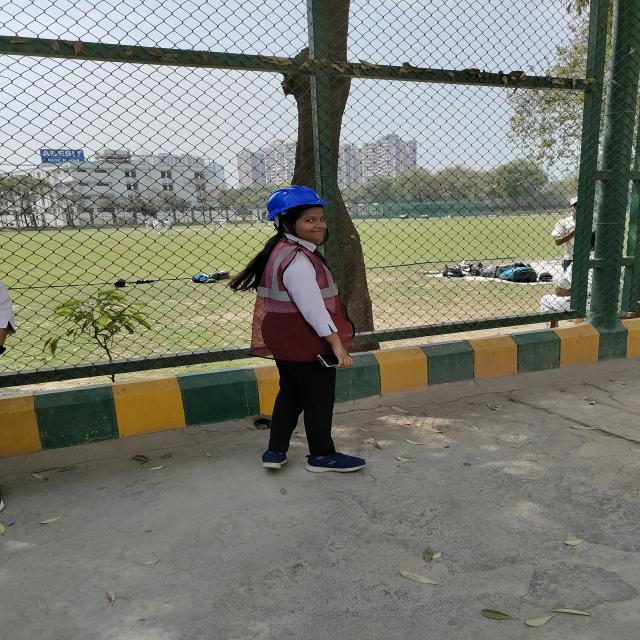safe: (246, 186, 362, 470)
